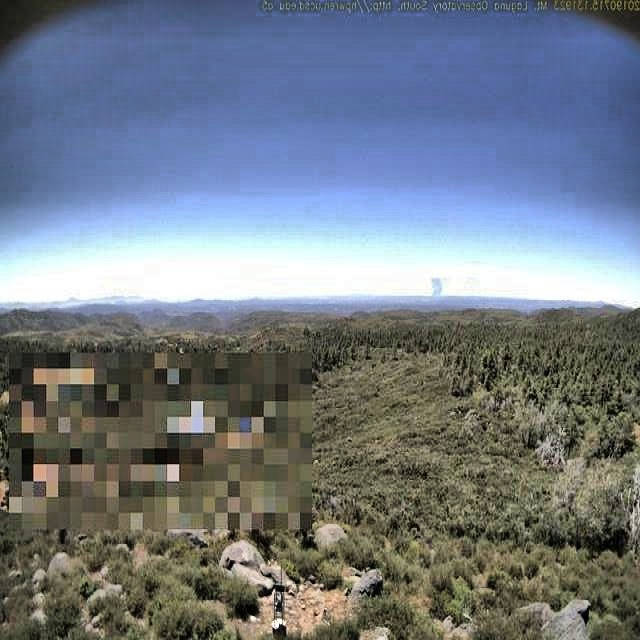smoke: (428, 271, 446, 304)
